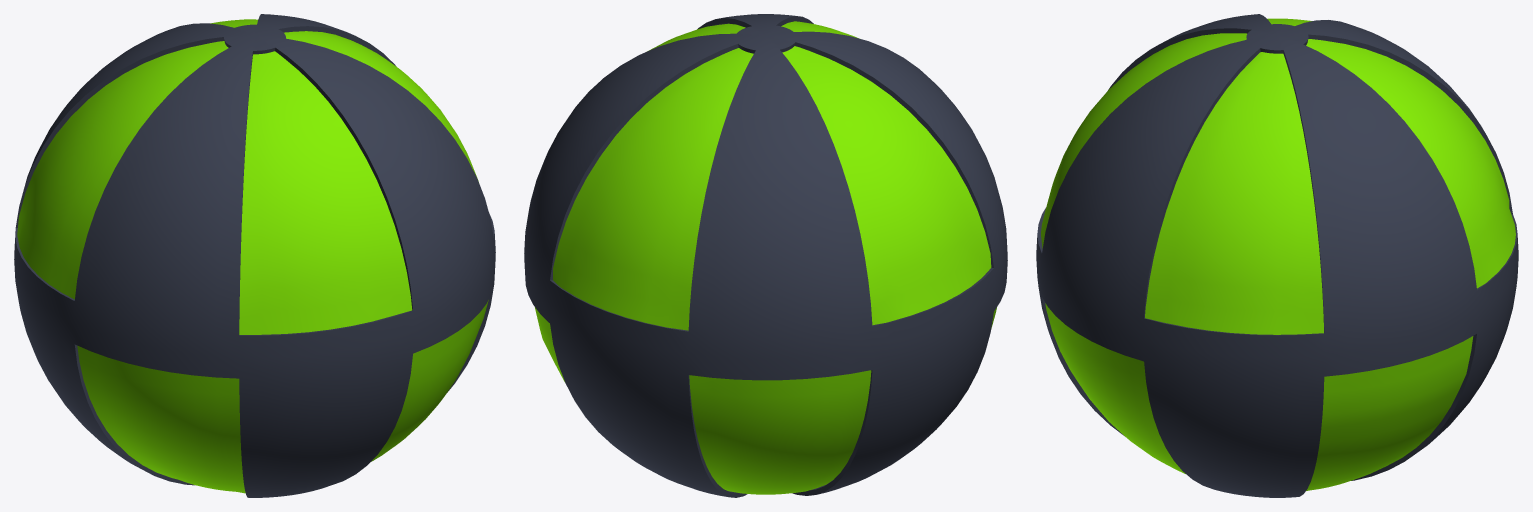
Rendered from ball1.fbx.
The picture shows the model from 3 angles, left to right: view 1: azimuth 30°, elevation 25°; view 2: azimuth 150°, elevation 25°; view 3: azimuth 270°, elevation 25°; orthographic projection.
Parts seen in each view (by area): view 1: Sphere, Sphere.001; view 2: Sphere, Sphere.001; view 3: Sphere, Sphere.001.
Boxes of the visible parts, <box> form: Sphere: <box>14,14,495,497</box>; Sphere.001: <box>17,19,488,493</box>; Sphere: <box>524,14,1007,497</box>; Sphere.001: <box>535,21,996,494</box>; Sphere: <box>1036,14,1518,497</box>; Sphere.001: <box>1041,18,1515,490</box>.
Bounding box in the file's own units: 0.6477 × 0.6545 × 0.6477.
